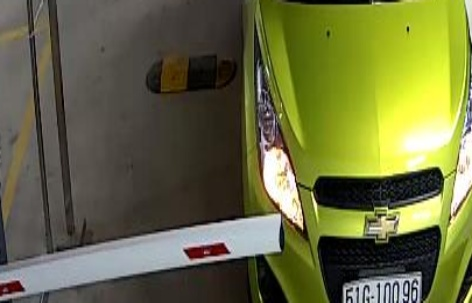plate: (339, 272, 424, 303)
